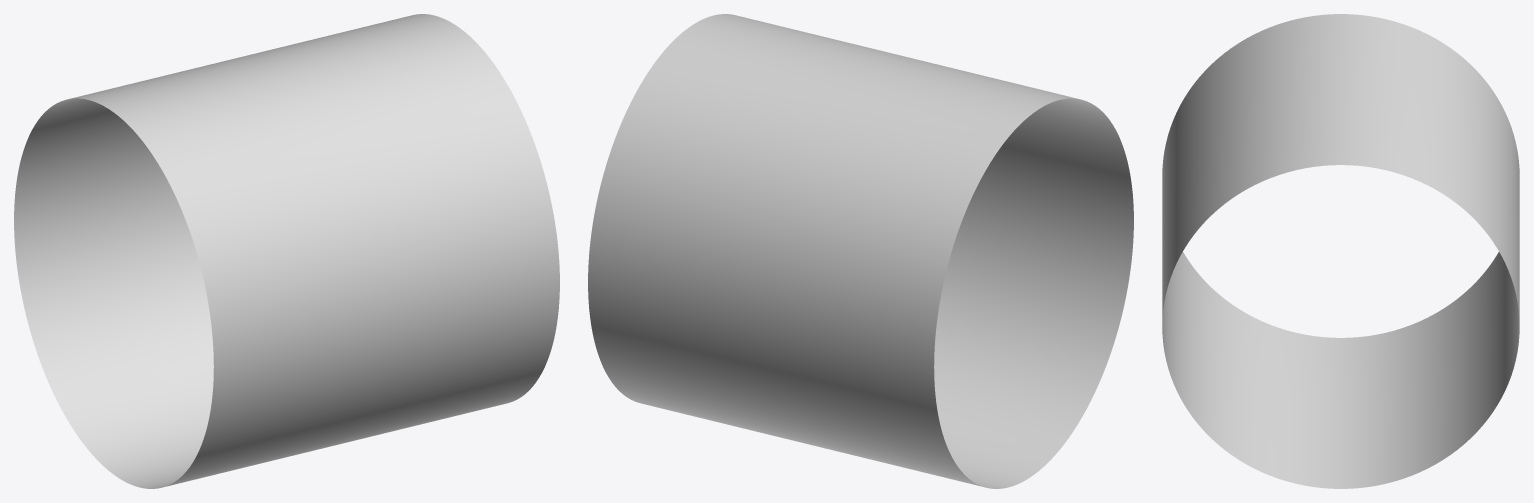
File: OutsideCylinder.fbx
The picture shows the model from 3 angles, left to right: view 1: azimuth 30°, elevation 25°; view 2: azimuth 150°, elevation 25°; view 3: azimuth 270°, elevation 25°; orthographic projection. The views are drawn at different scales.
Parts seen in each view (by area): view 1: Cylinder.004; view 2: Cylinder.004; view 3: Cylinder.004.
Boxes of the visible parts, x1,y1,x2,y2 form: Cylinder.004: [14, 14, 559, 488]; Cylinder.004: [588, 14, 1133, 488]; Cylinder.004: [1162, 14, 1519, 488].
Size of the model in its own units: 245867 by 245867 by 245867.
